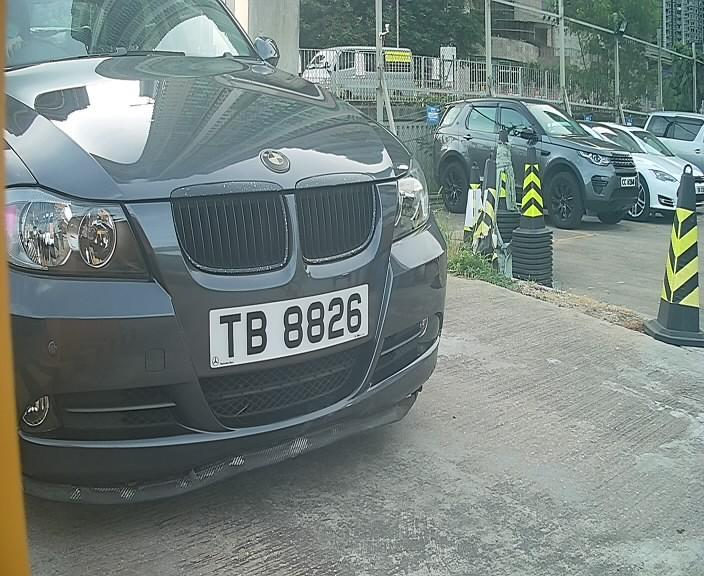privatecar: (1, 1, 454, 520)
